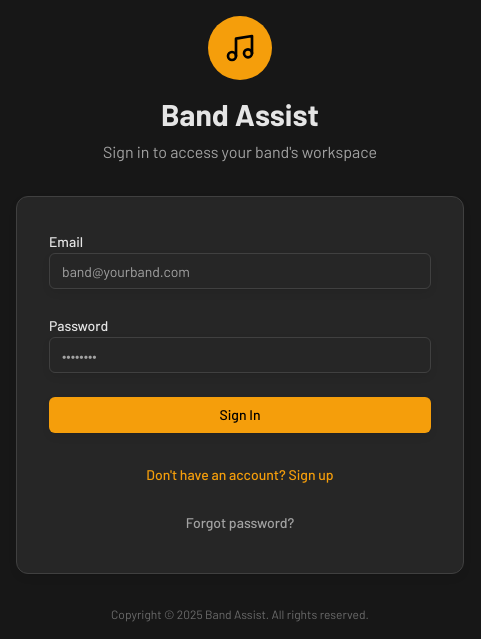
Test: Login › loading state › disables inputs during submission
In the field labelled "Email": [240, 271] box 49,253 -> 431,289, type "test@example.com"
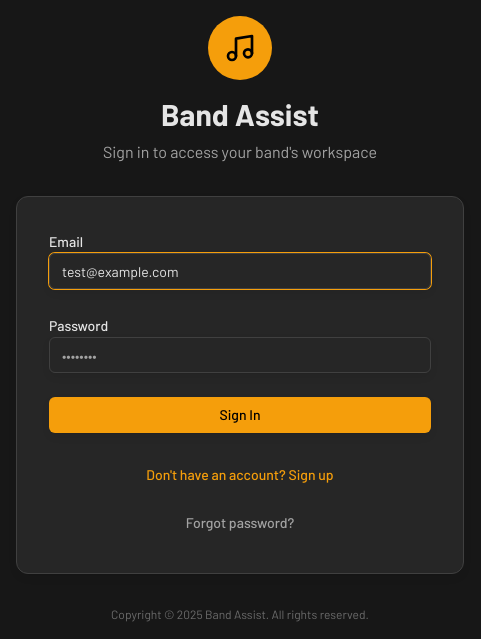
In the password field labelled "Password": [240, 355] box 49,337 -> 431,373, type "Password1!"
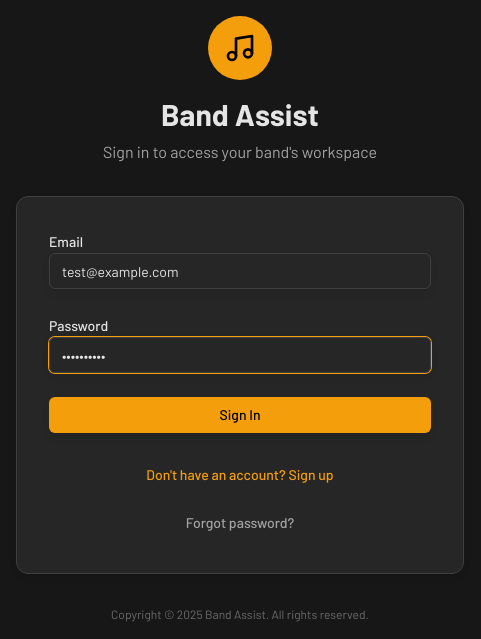
Click the button "Sign In": [240, 415] box 49,397 -> 431,433
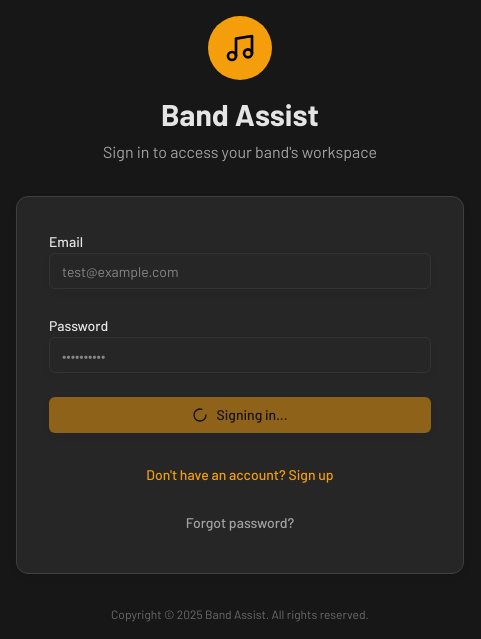
Expected: the field labelled "Email" is disabled, 49,253 -> 431,289
Expected: the password field labelled "Password" is disabled, 49,337 -> 431,373
